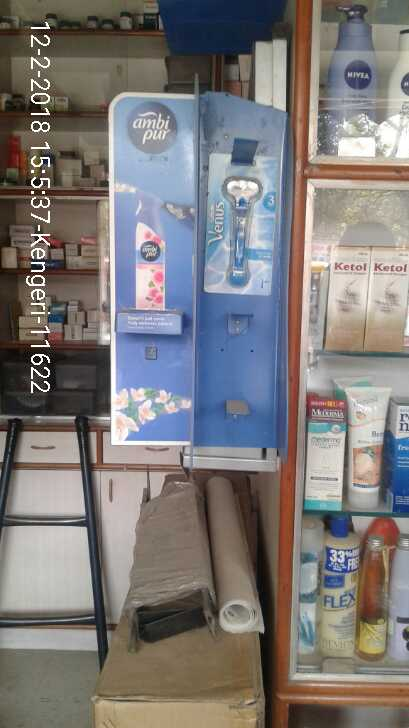venus: (203, 141, 276, 300)
